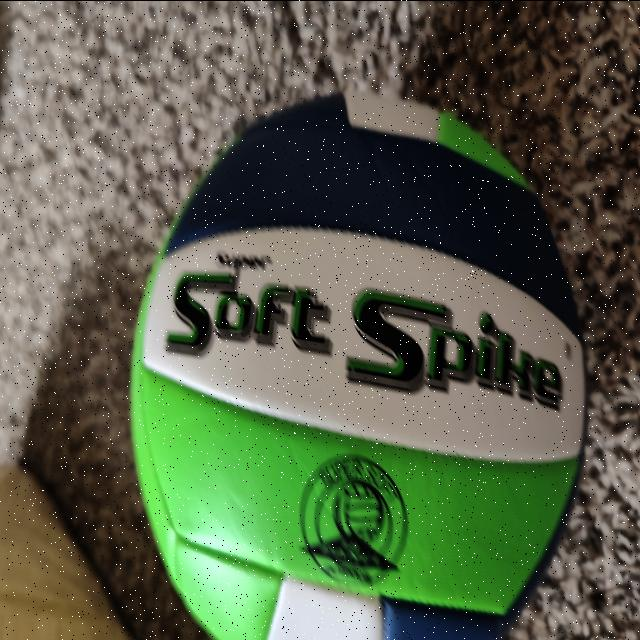ball: (131, 94, 568, 636)
